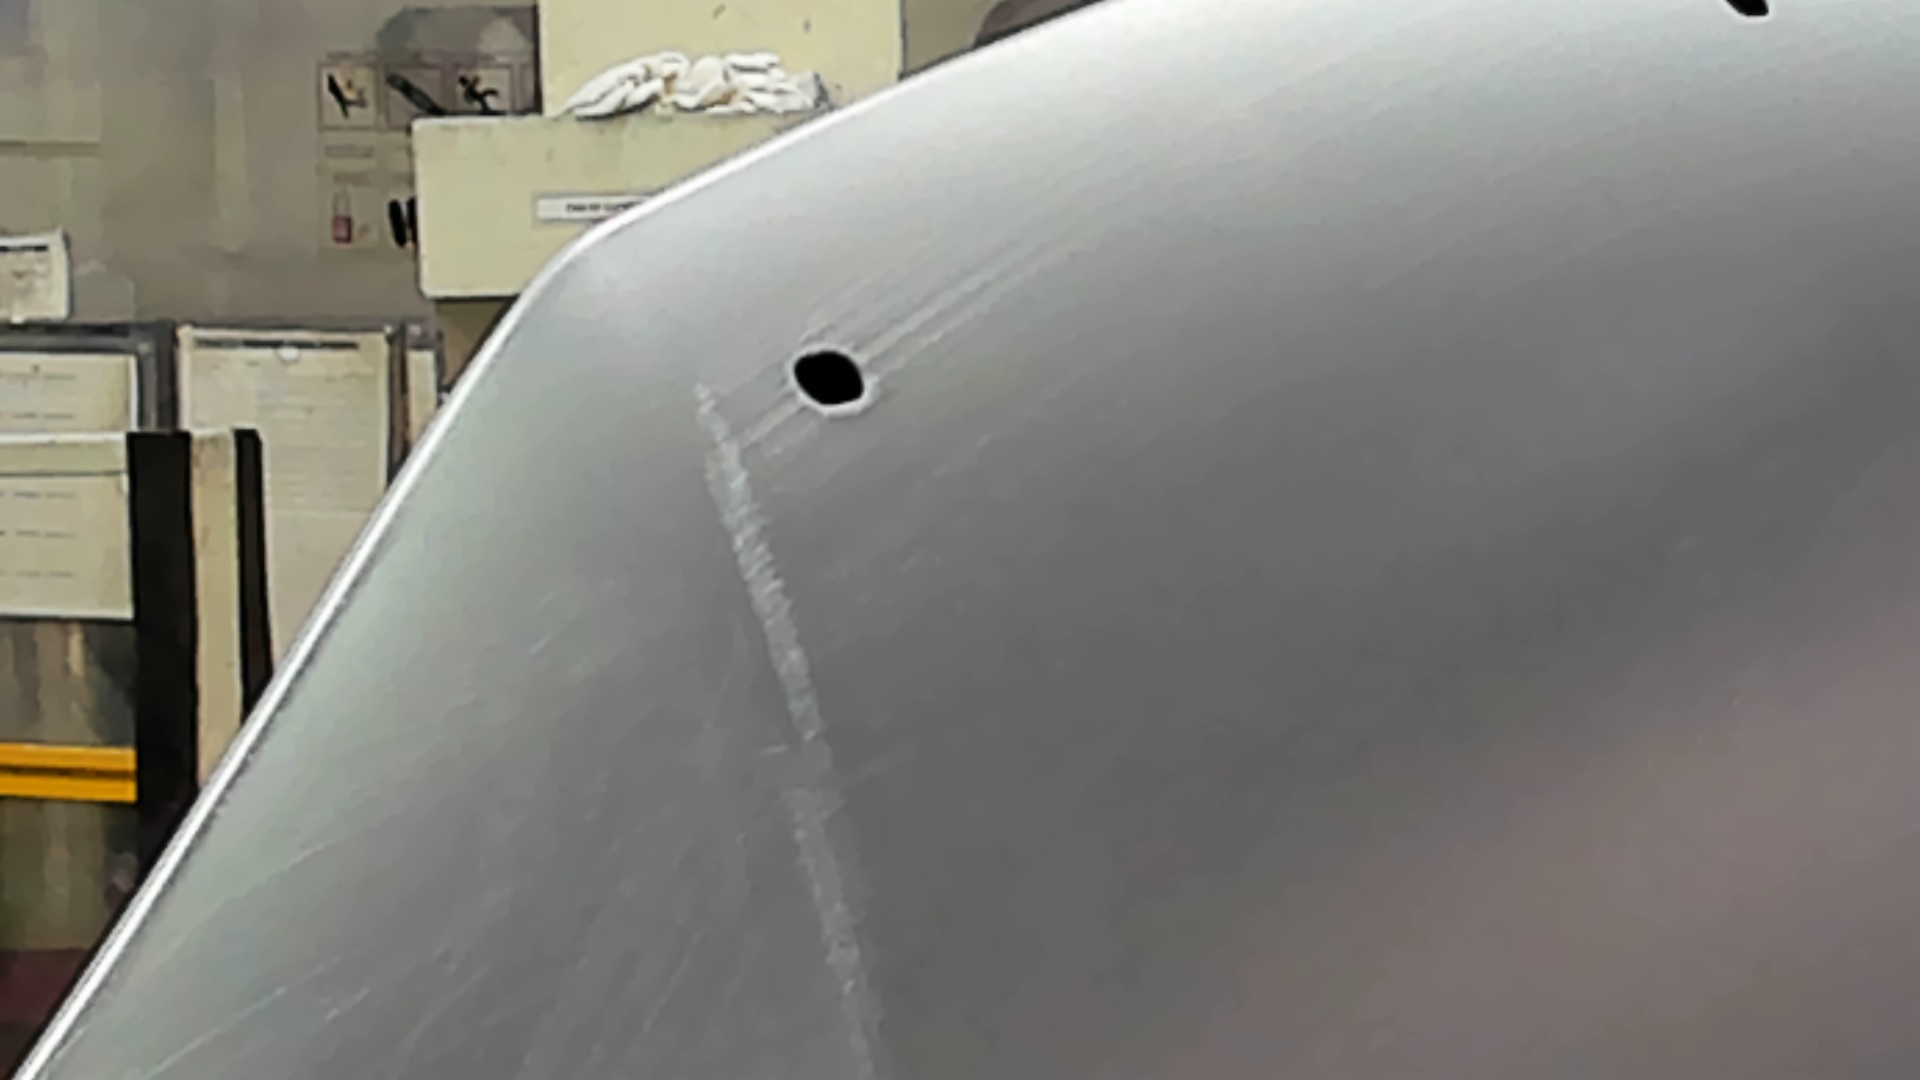amorfo: (782, 345, 887, 425)
capo: (973, 92, 1920, 1080)
